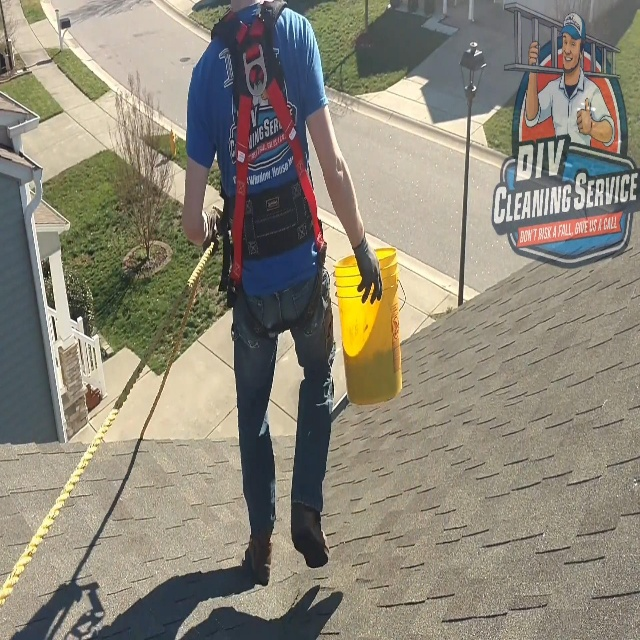Arnes_seguridad: (203, 0, 328, 340)
